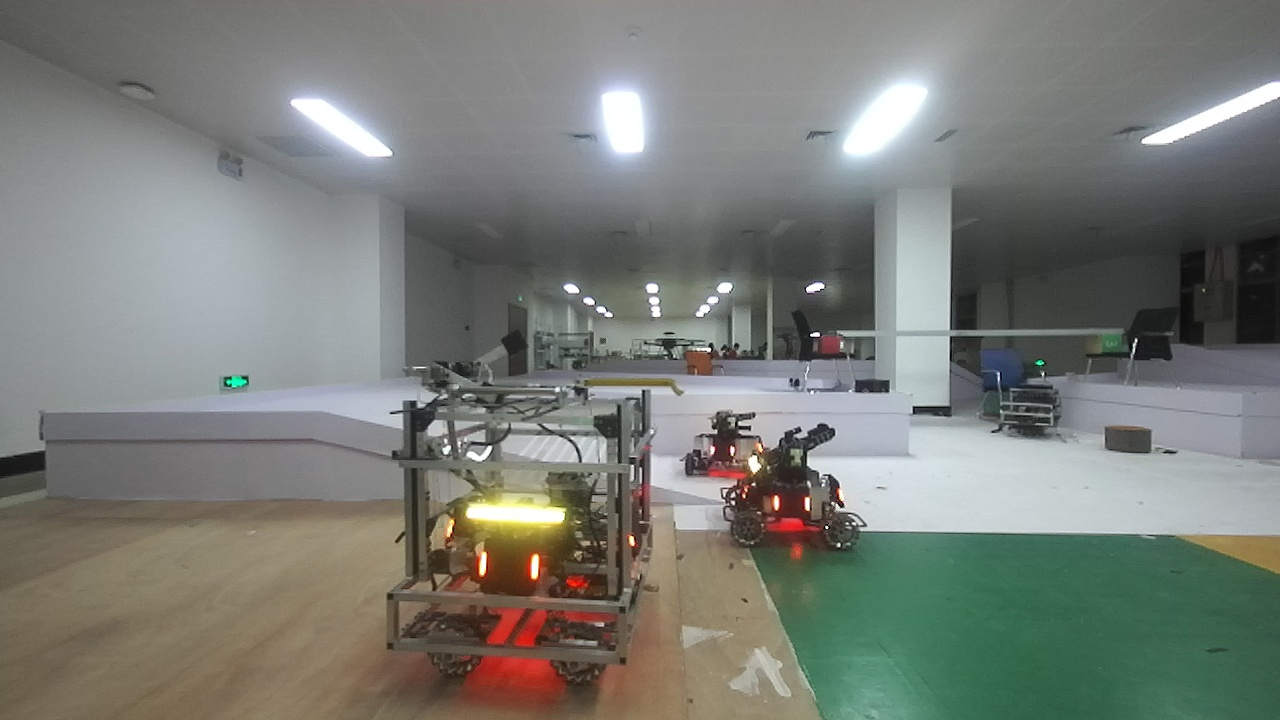car: (389, 385, 646, 700), (719, 430, 877, 545), (688, 407, 778, 477)
